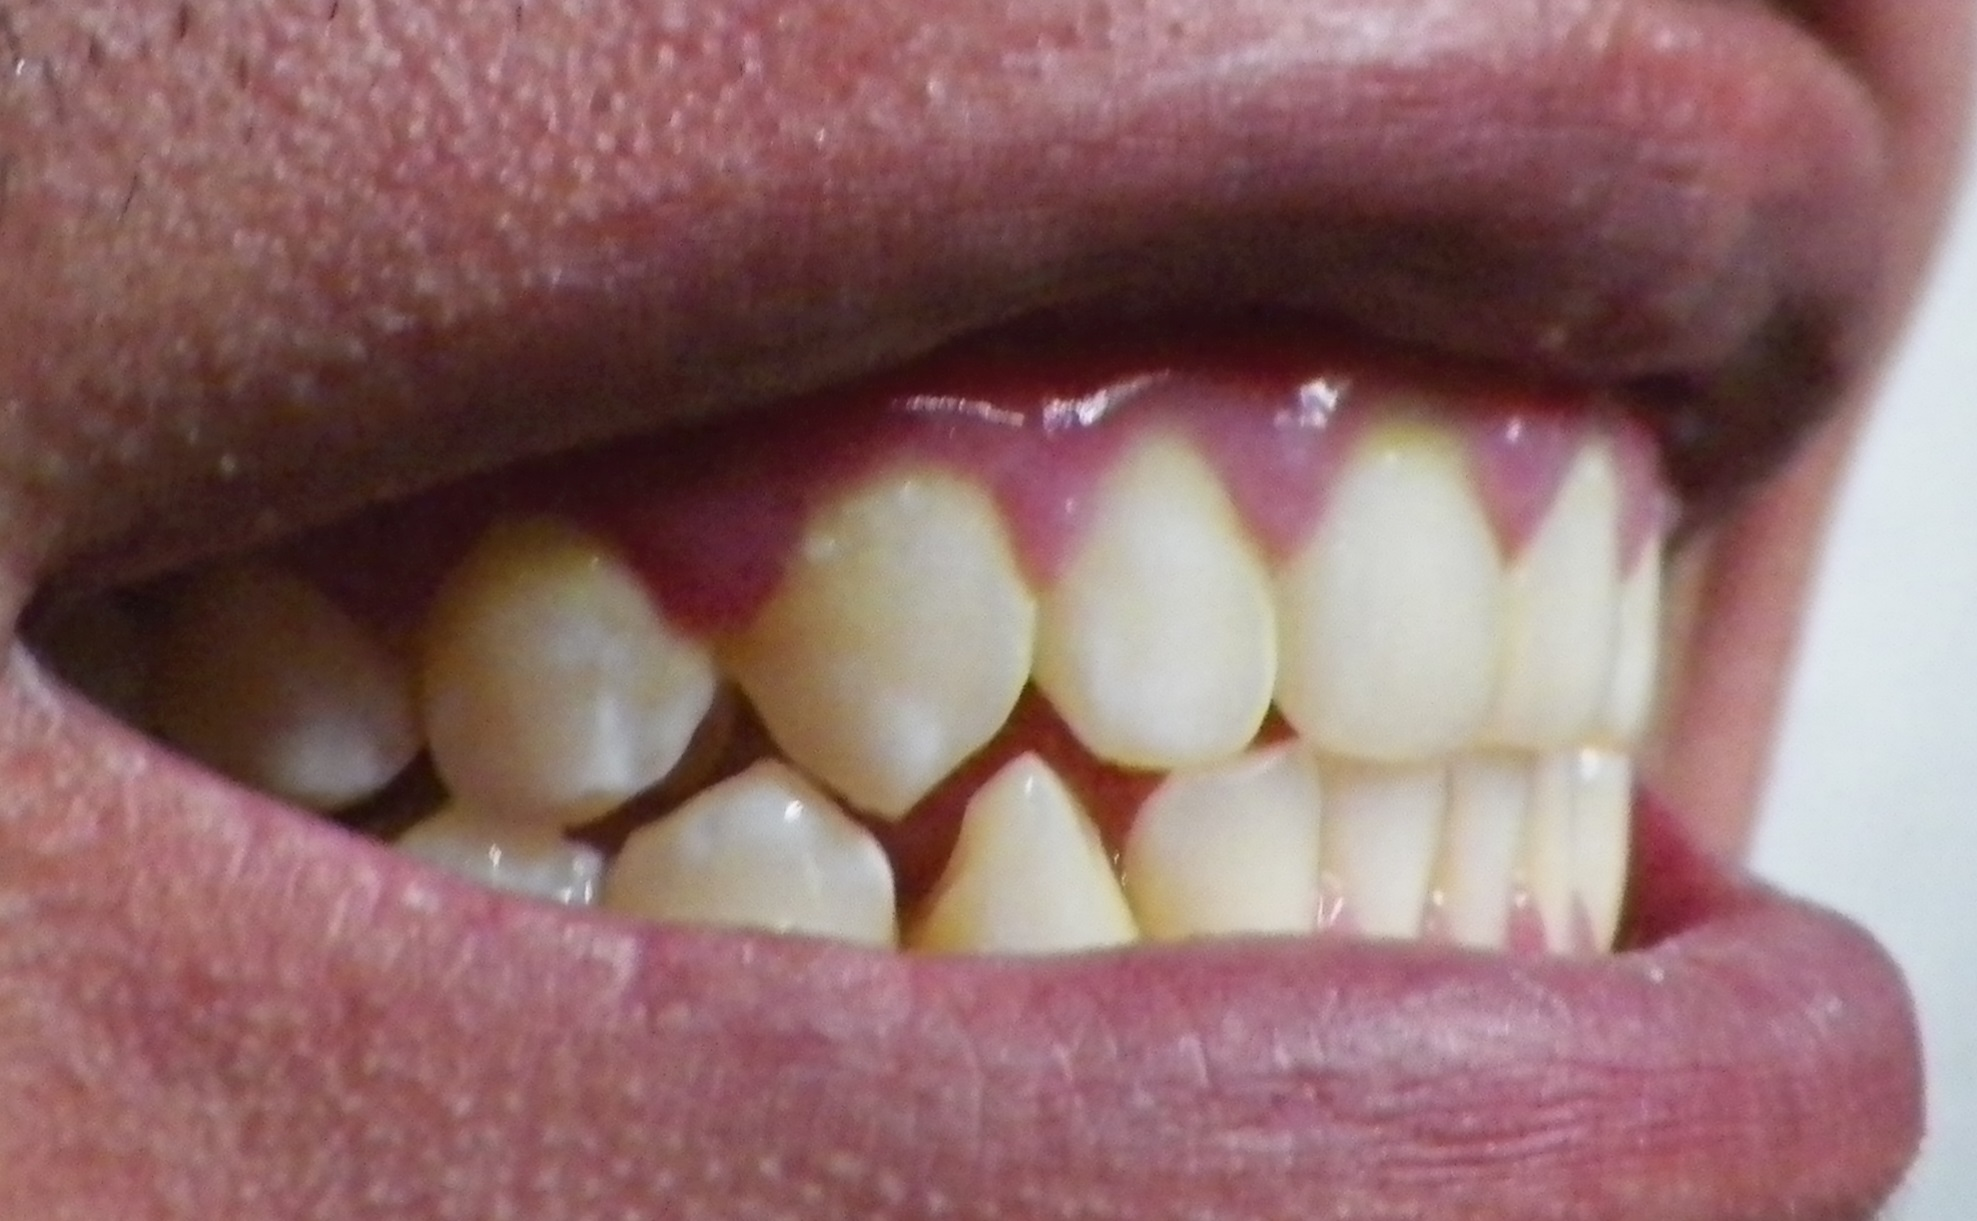boca: (167, 447, 1697, 939)
